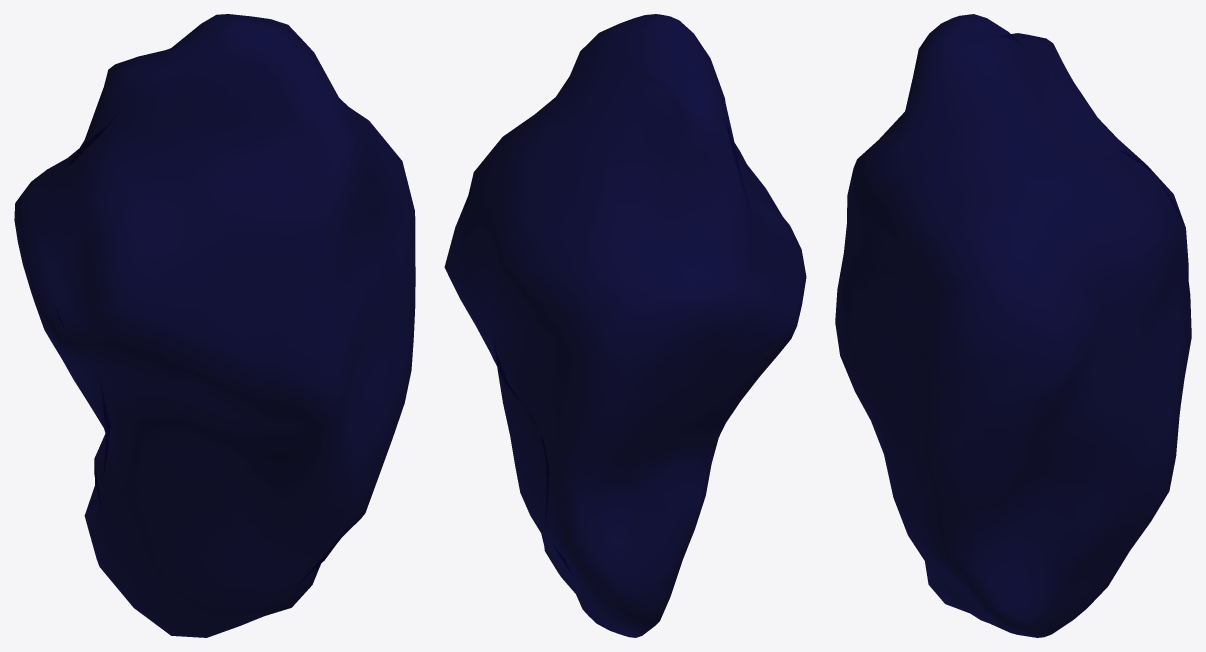
File: crystal.fbx
3 views of the same model, side by side, from view 1: azimuth 30°, elevation 25°; view 2: azimuth 150°, elevation 25°; view 3: azimuth 270°, elevation 25° (orthographic). The views are drawn at different scales.
Parts seen in each view (by area): view 1: crystal_low; view 2: crystal_low; view 3: crystal_low.
Boxes of the visible parts, x1,y1,x2,y2 form: crystal_low: (14,14,415,637); crystal_low: (444,14,806,637); crystal_low: (835,14,1191,637).
Size of the model in its own units: 23.73 by 41.54 by 21.88.
